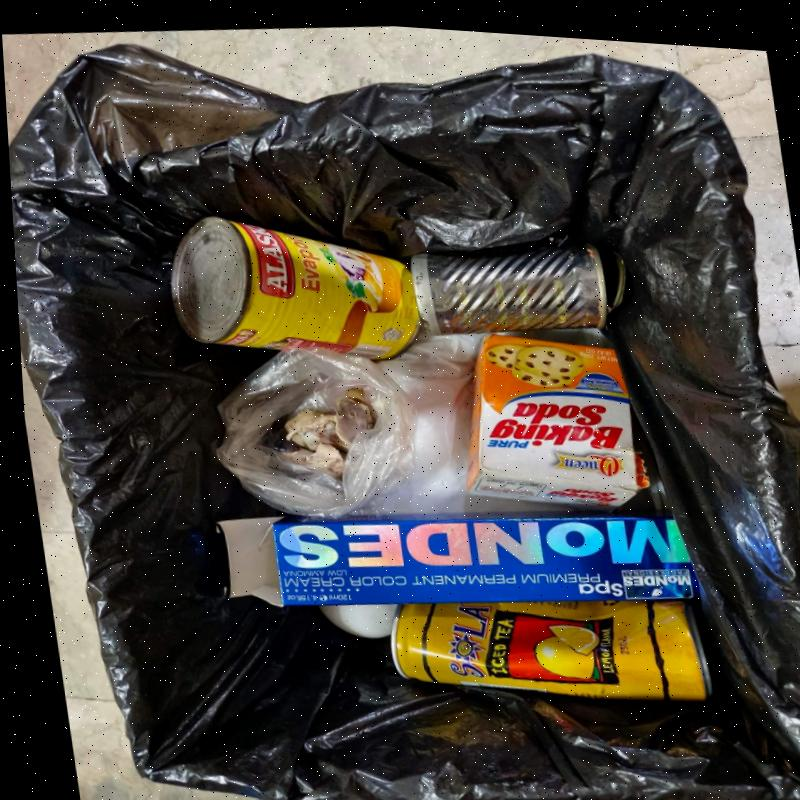aluminum: (172, 215, 424, 361), (392, 597, 714, 700), (411, 242, 628, 335)
cardboard: (208, 505, 695, 606), (467, 333, 650, 506)
egg shell: (319, 603, 397, 637)
left-over food: (282, 387, 378, 476)
plastic bag: (217, 342, 419, 515)
